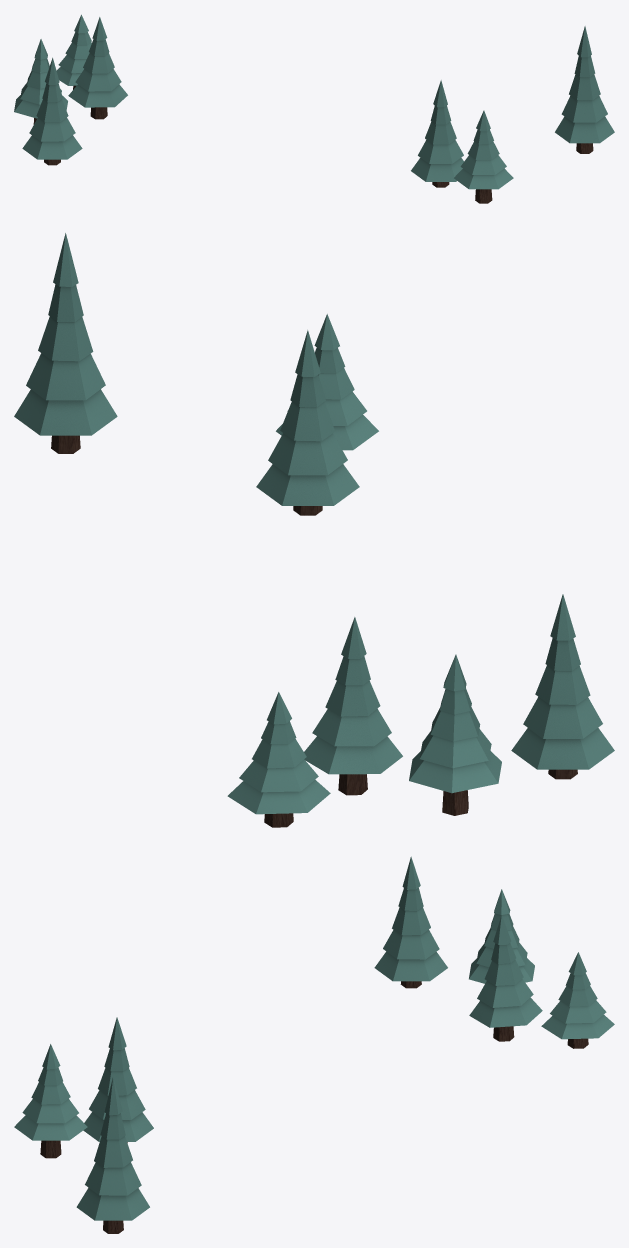
File: 3P_Trees.glb
3 views of the same model, one above another, from view 1: azimuth 30°, elevation 25°; view 2: azimuth 150°, elevation 25°; view 3: azimuth 270°, elevation 25° (orthographic). The views are drawn at different scales.
Parts seen in each view (by area): view 1: Tree.1; view 2: Tree.1; view 3: Tree.1.
Part boxes in pixels (x1,y1,x2,y2): Tree.1: (14,14,614,203); Tree.1: (14,233,614,827); Tree.1: (14,856,614,1233).
Size of the model in its own units: 11.45 by 3.07 by 10.67.
Materials: 1 (1 with a texture image).
